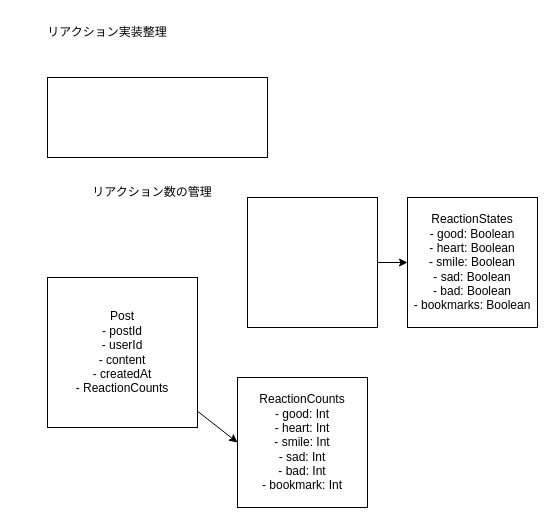
This 555x525 diagram has some shape labels left out. The centre of each missing label's shape, as x and y in pixels:
"Reaction - userId (pk) - postId (sk) - ReactionStates" goes at (x=312, y=262).
"必要なもの ・リアクション数の管理 ・リアクションしたユーザの管理 ・ブックマークしたポスト" goes at (x=157, y=117).
